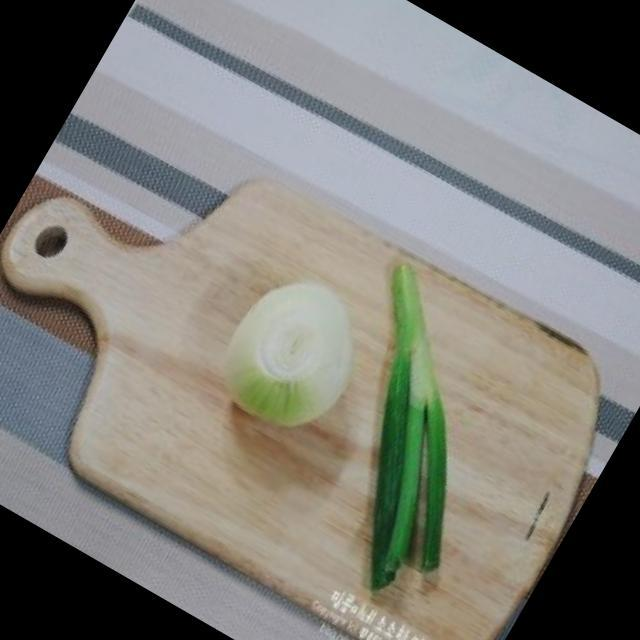Onion: (225, 278, 355, 426)
